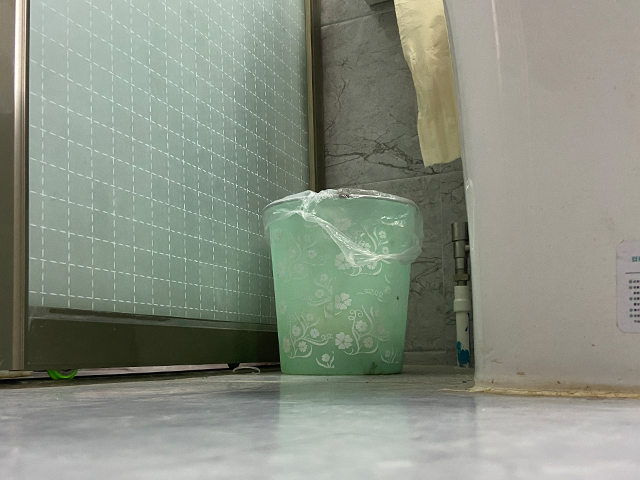trashcan: (259, 188, 420, 376)
